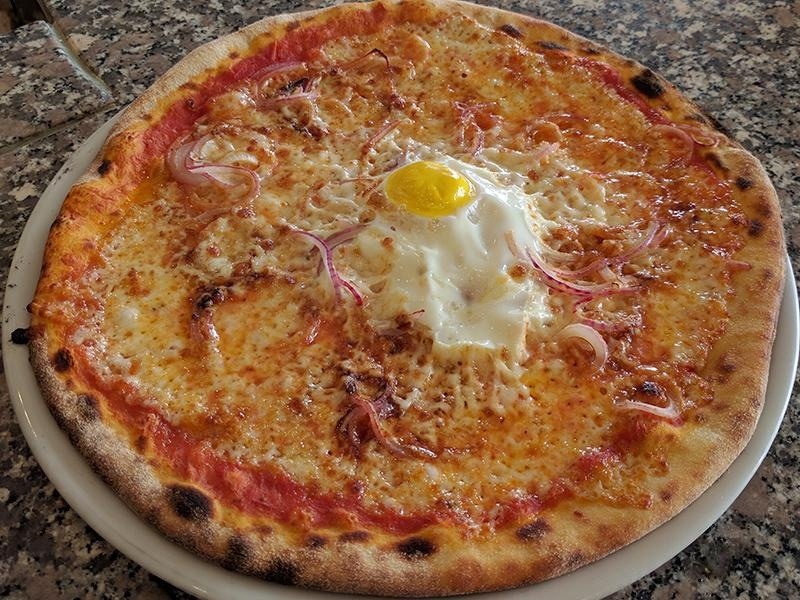oeuf: (379, 154, 490, 246)
